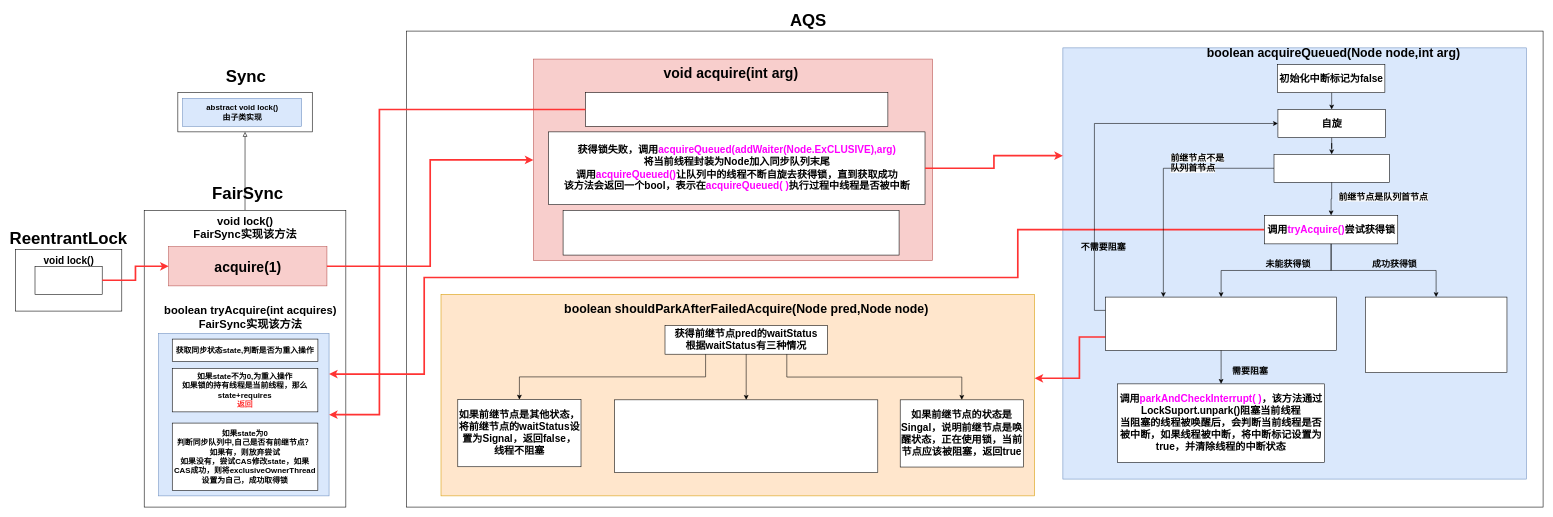
The diagram is 1553 pixels wide and 517 high, and some of its shapes have lost their labels. The centre of each missing label's shape, as x and y in pixels:
"sync.lock()" goes at [68,280].
"如果acquiredQueued()返回true，那么说明在自旋过程中，发生了中断 调用 selfInterrupt( ) 为线程设置中断标记" goes at [731,232].
"如果前继节点的状态是CANCELLED，说明前继节点是取消状态，从前继节点开始，不断向前找到取消状态的节点，将这些节点都从队列中移除，返回false，线程不阻塞" goes at [746,436].
"将当前节点设置为队列首节点 并将当前节点更新为虚节点(清空数据)， 返回中断标记，结束" goes at [1436,335].
"获取当前节点的前继节点" goes at [1331,168].
"调用 shouldParkAfterFailedAcquire(pre,node) ，根据前继节点的状态判断当前节点是否需要阻塞" goes at [1221,323].
"调用 tryAcquire(arg)(子类实现) 尝试获得锁 如果获得成功， 则返回" goes at [736,109].
